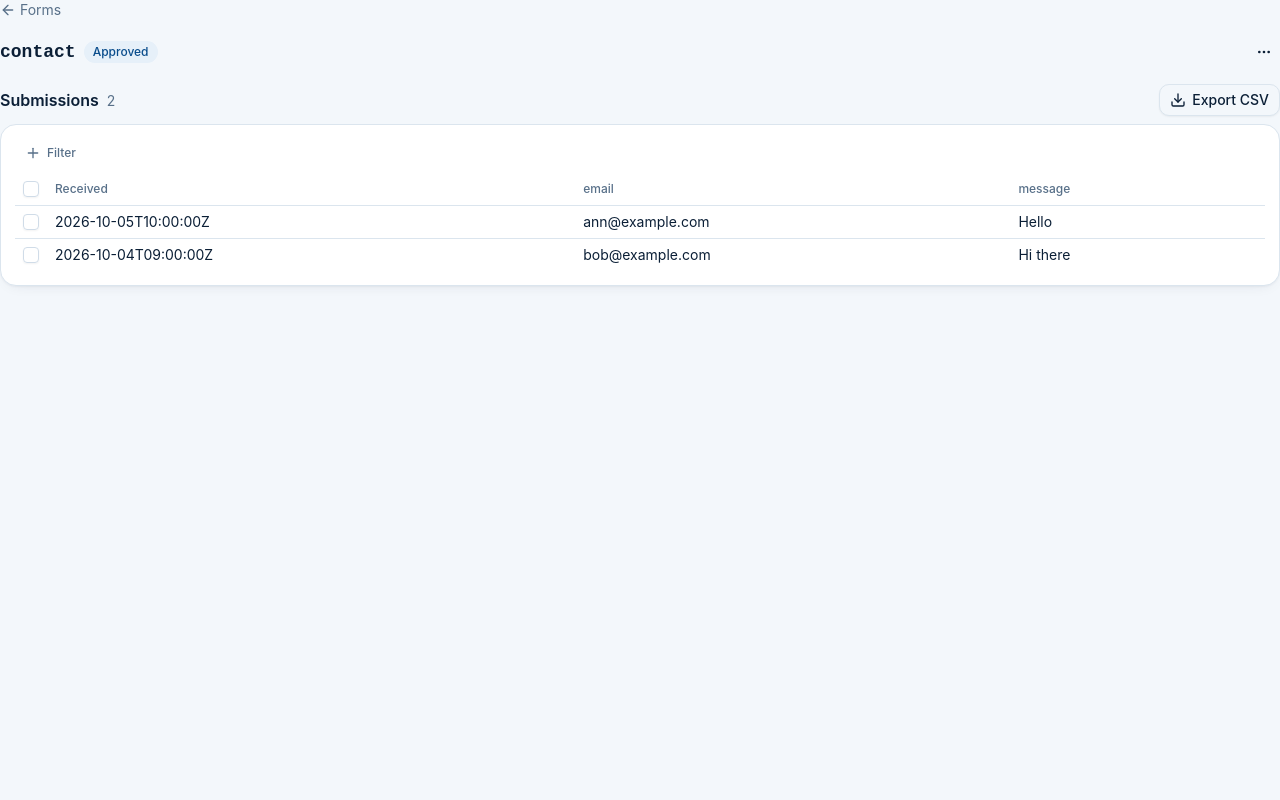
Test: FormPage › marks fields arriving outside the expected list as not kept, and saves a new list
This screenshot has width=1280, height=800.
Step 1. Click the button named "Actions for contact" → (1264, 52), box x1=1248 y1=36 x2=1279 y2=68
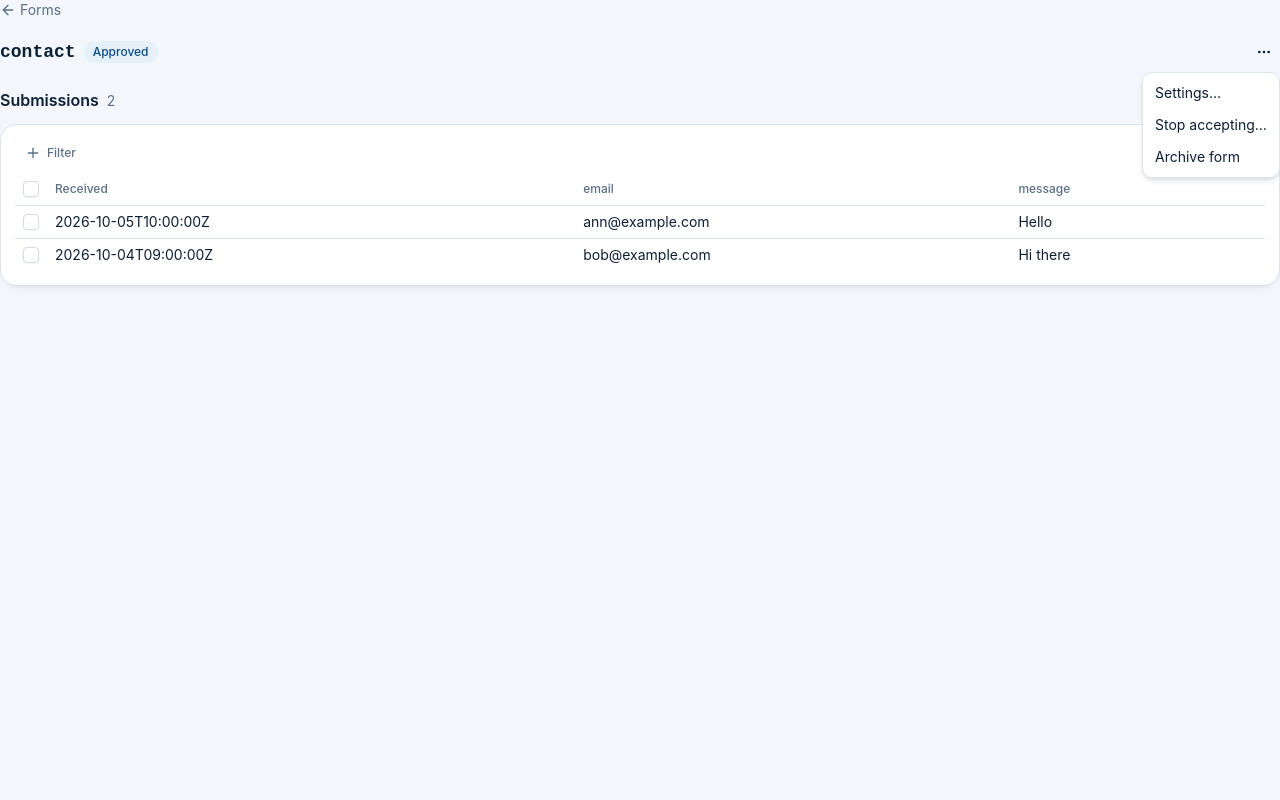
Step 2. Click the menu item "Settings…" → (1188, 92), box x1=1155 y1=84 x2=1221 y2=101
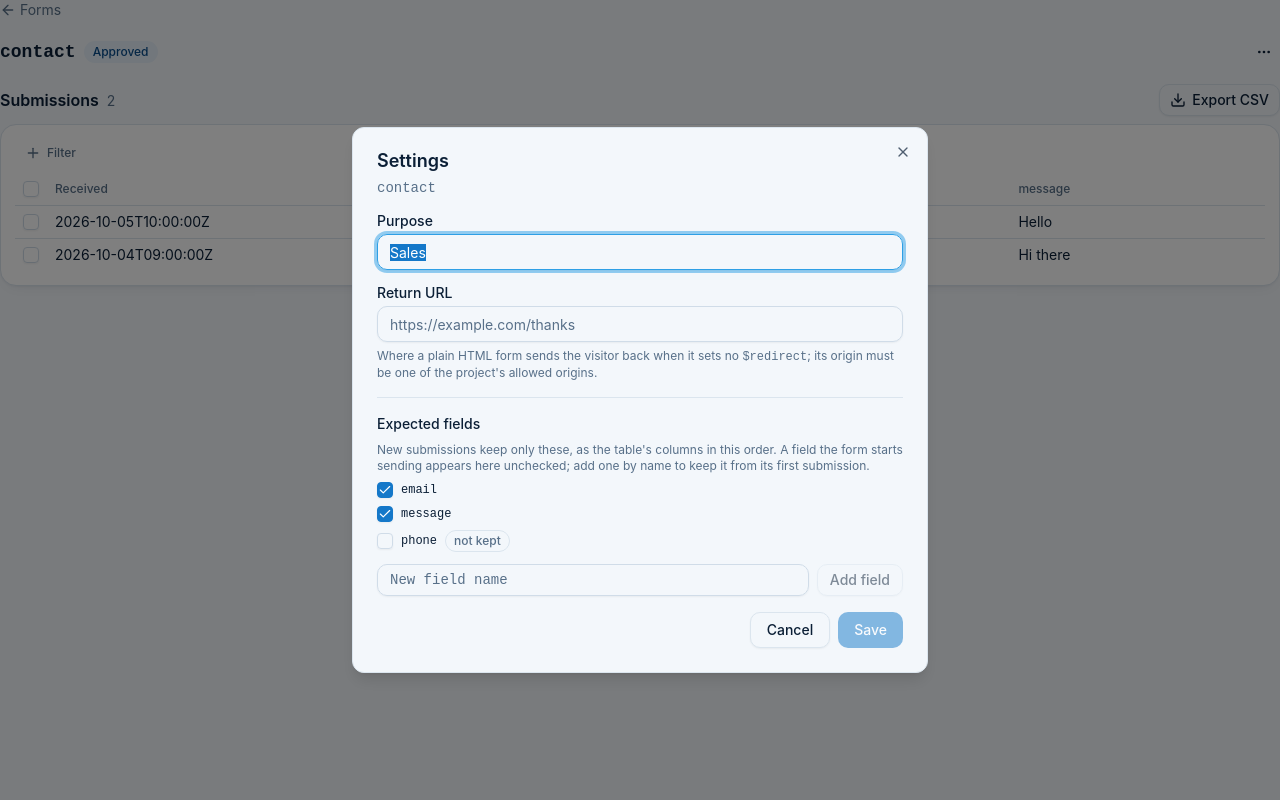
Result: the text "not kept" is shown at x1=445 y1=530 x2=510 y2=552
Result: the button "Save" is disabled at x1=838 y1=612 x2=903 y2=648
Step 3. Click the checkbox named "phone" next to "phone" → (385, 541), box x1=377 y1=533 x2=393 y2=549
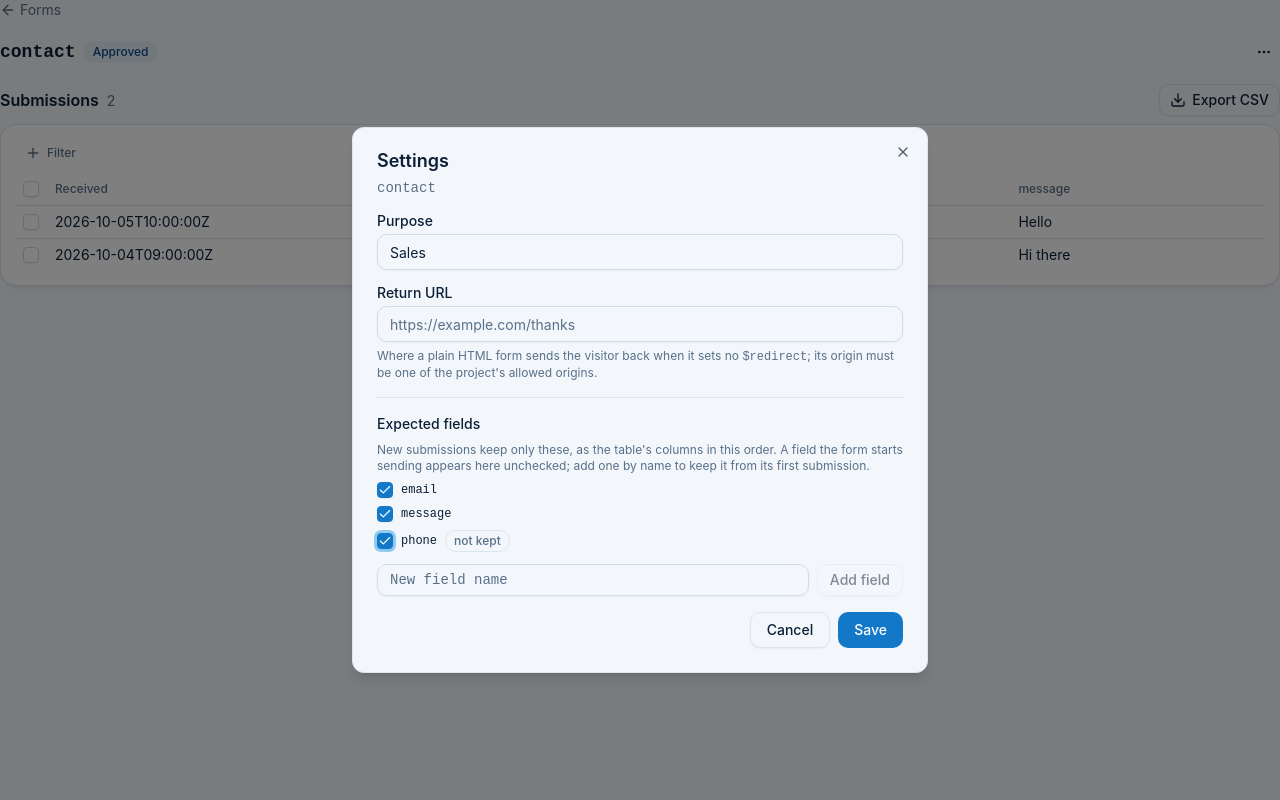
Step 4. Click the button "Save" → (871, 630), box x1=838 y1=612 x2=903 y2=648
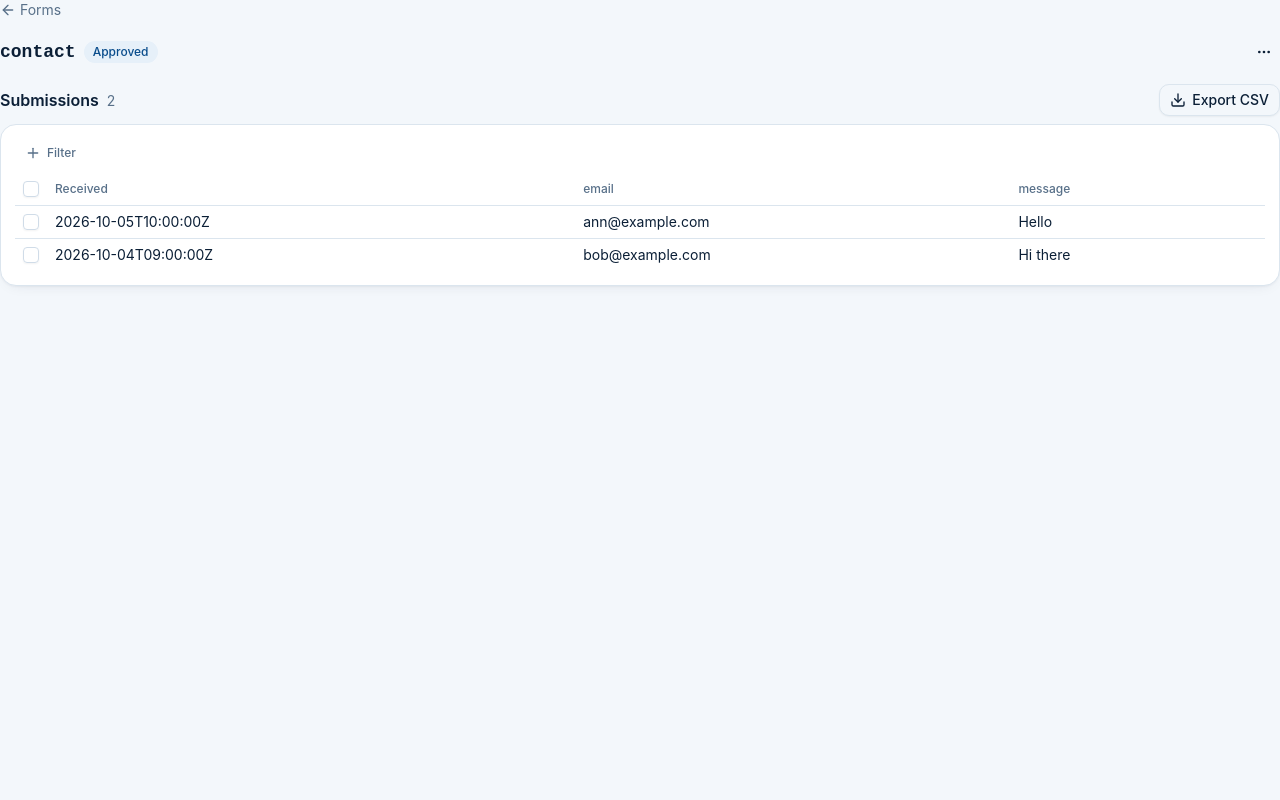
Result: the heading "Settings" is gone
